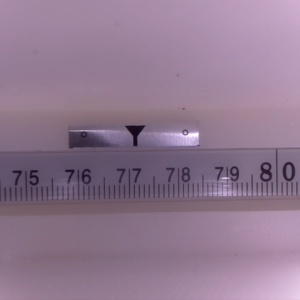0: (281, 161, 296, 181)
5: (28, 170, 39, 186)
6: (80, 168, 91, 185)
7: (14, 170, 25, 185), (64, 169, 74, 185), (131, 168, 141, 184), (165, 167, 175, 182), (116, 168, 125, 184), (213, 167, 223, 181)
8: (259, 163, 272, 181), (181, 167, 191, 182)
9: (229, 167, 239, 182)
finger: (124, 125, 146, 147)
